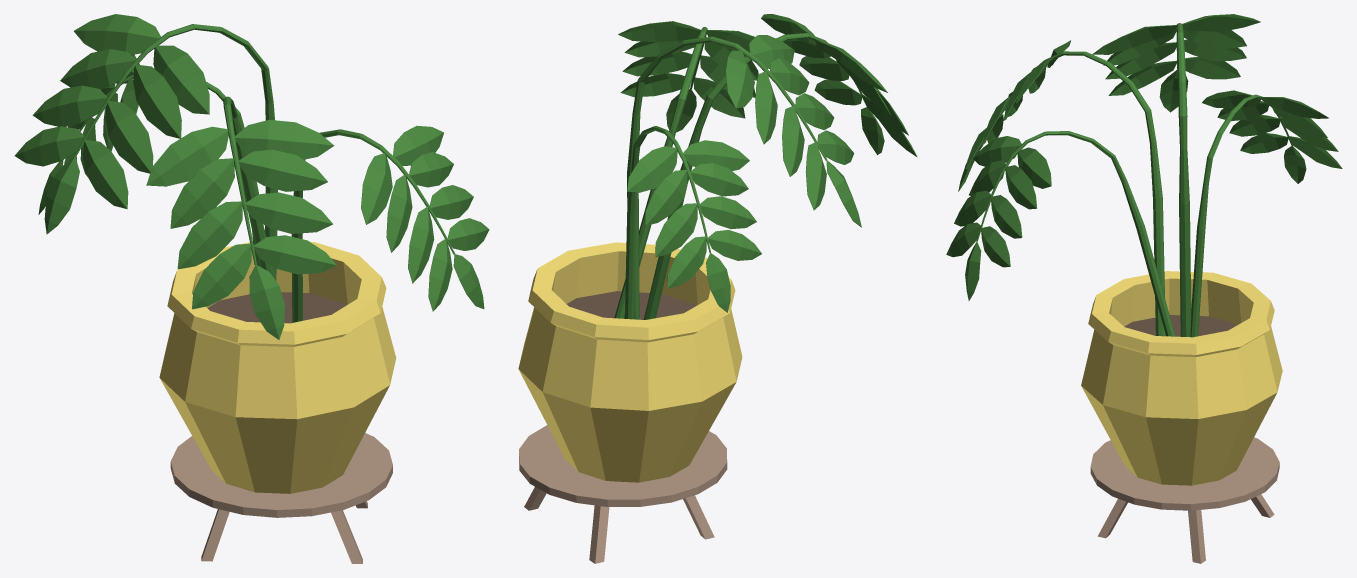
File: Flower_on_a_stand.fbx
3 views of the same model, side by side, from view 1: azimuth 30°, elevation 25°; view 2: azimuth 150°, elevation 25°; view 3: azimuth 270°, elevation 25° (orthographic). The views are drawn at different scales.
Parts seen in each view (by area): view 1: Flower_on_a_stand; view 2: Flower_on_a_stand; view 3: Flower_on_a_stand.
Boxes of the visible parts, x1,y1,x2,y2 form: Flower_on_a_stand: (14,14,489,563); Flower_on_a_stand: (518,14,917,563); Flower_on_a_stand: (946,14,1342,563).
Bounding box in the file's own units: 83.18 × 96.13 × 122.
